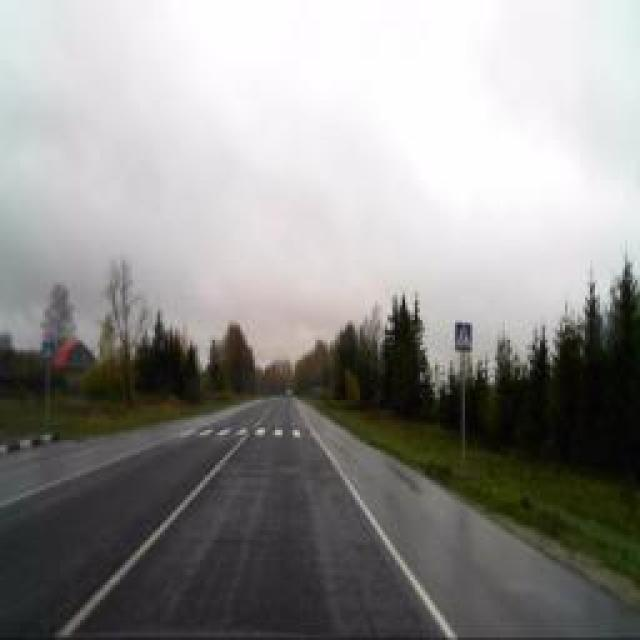sign: (454, 320, 474, 355), (40, 340, 55, 368)
